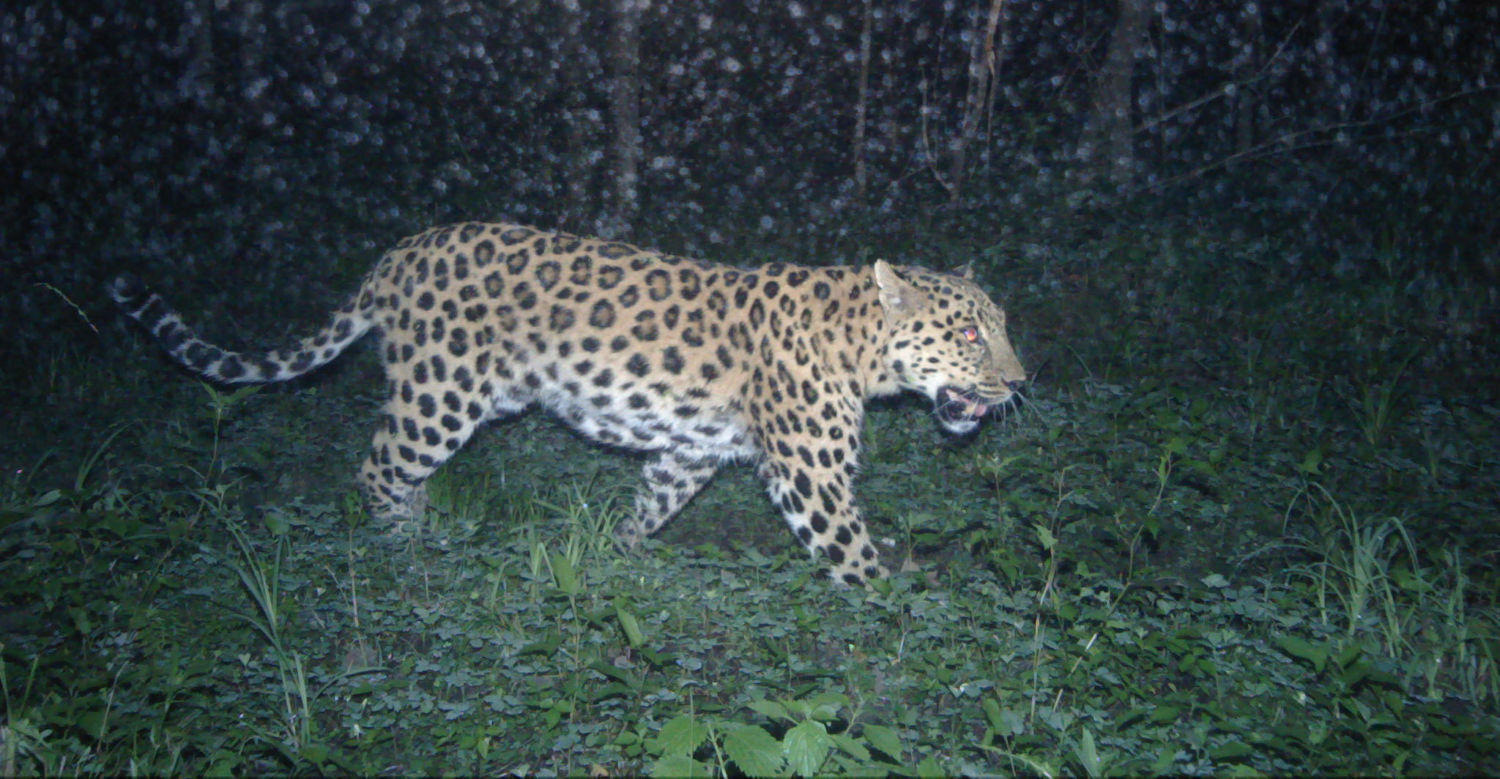amur_leopard: (358, 185, 1050, 607)
